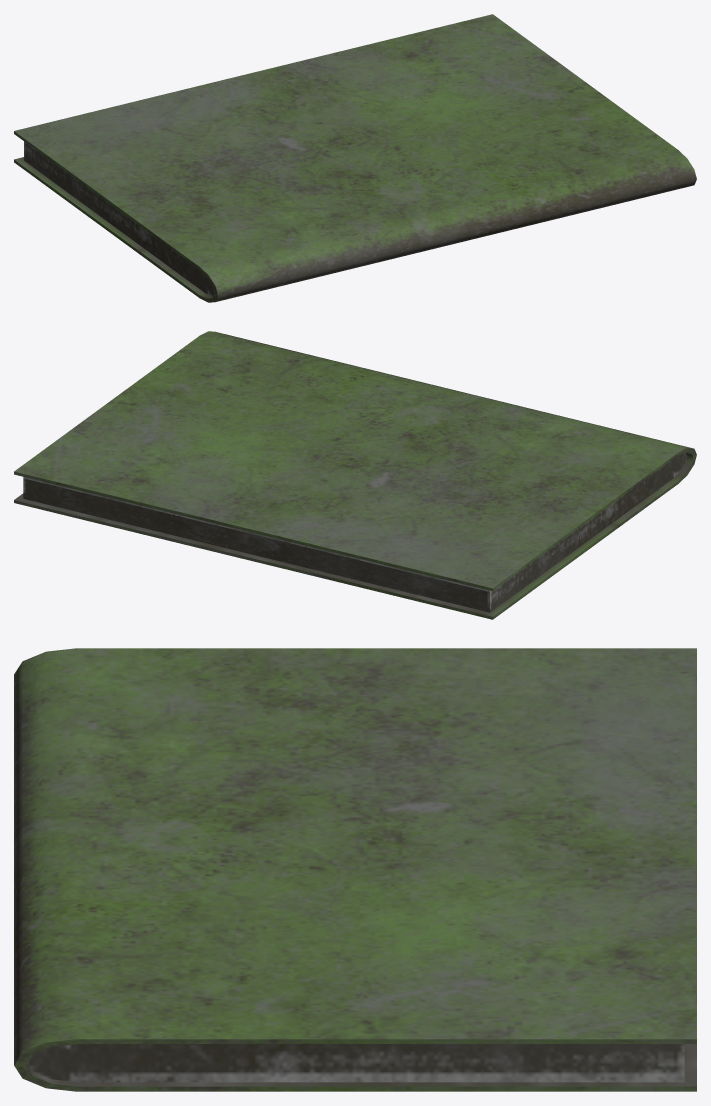
The model's file is SM_Book_2.fbx.
3 renders of one model, top to bottom at view 1: azimuth 30°, elevation 25°; view 2: azimuth 150°, elevation 25°; view 3: azimuth 270°, elevation 25°, orthographic. The views are drawn at different scales.
Visible parts, largest first — view 1: SM_Book_2_LOD0; view 2: SM_Book_2_LOD0; view 3: SM_Book_2_LOD0.
Boxes of the visible parts, x1,y1,x2,y2 form: SM_Book_2_LOD0: [14, 14, 696, 302]; SM_Book_2_LOD0: [14, 331, 696, 619]; SM_Book_2_LOD0: [14, 648, 696, 1091].
Bounding box in the file's own units: 23.34 × 17.24 × 1.46.
Materials: 1 (1 with a texture image).
